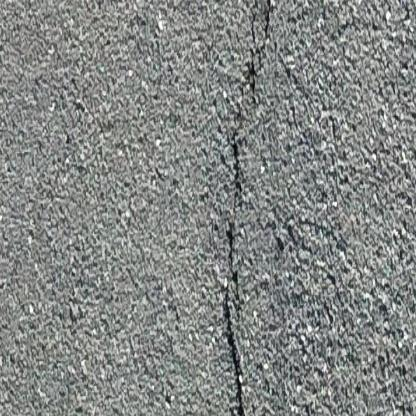Cracks: (221, 221, 255, 416), (228, 130, 247, 200), (261, 0, 277, 27)
